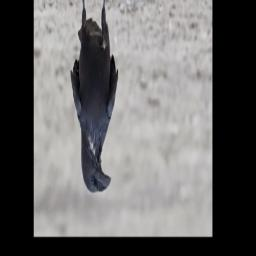Crow: (69, 0, 120, 194)
